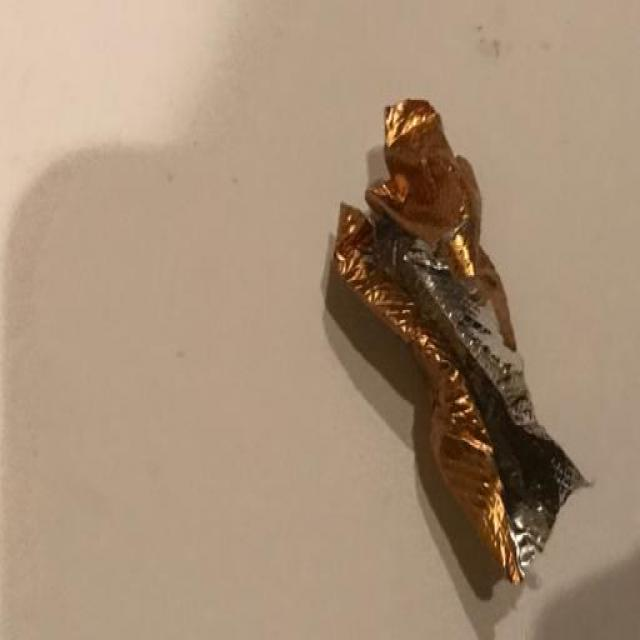metel: (293, 79, 640, 640)
